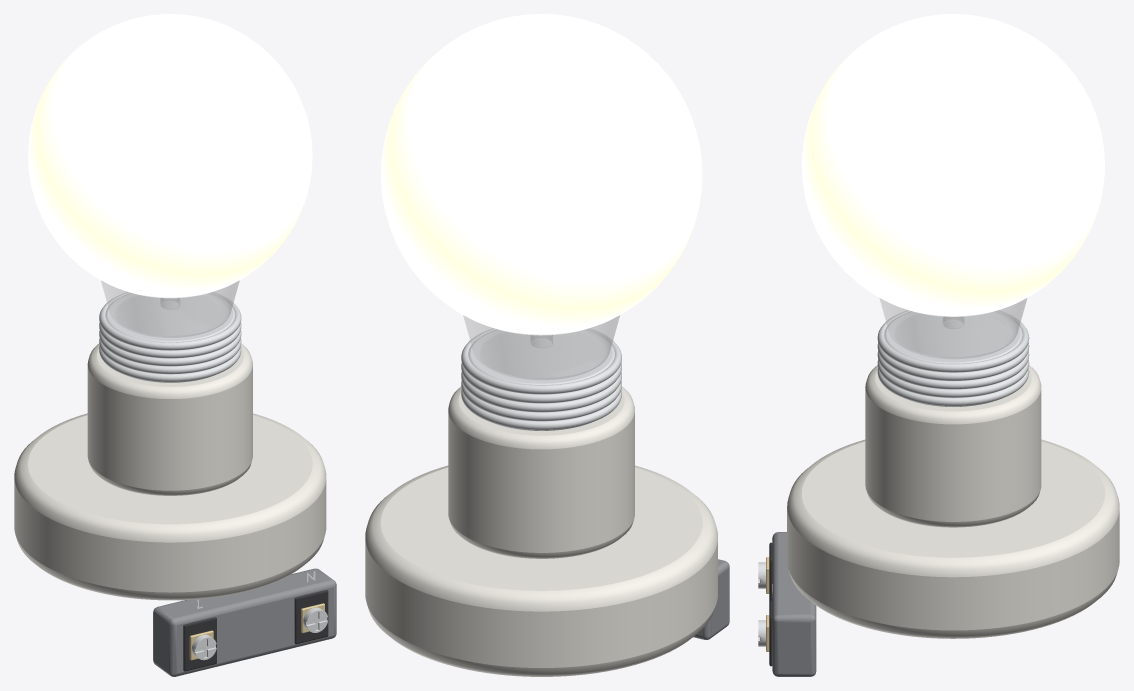
File: lamp_1.glb
3 renders of one model, left to right at view 1: azimuth 30°, elevation 25°; view 2: azimuth 150°, elevation 25°; view 3: azimuth 270°, elevation 25°, orthographic. The views are drawn at different scales.
Visible parts, largest first — view 1: body, glass, mech; view 2: body, glass, mech; view 3: body, glass, mech.
Boxes of the visible parts, bbox=[...] form: body: bbox=[14, 292, 326, 600]; glass: bbox=[28, 14, 312, 337]; mech: bbox=[153, 568, 336, 676]; body: bbox=[365, 328, 717, 676]; glass: bbox=[381, 14, 702, 379]; mech: bbox=[693, 559, 729, 639]; body: bbox=[787, 310, 1119, 638]; glass: bbox=[801, 14, 1104, 358]; mech: bbox=[758, 527, 816, 676].
Size of the model in its own units: 0.068 by 0.137 by 0.0739.
